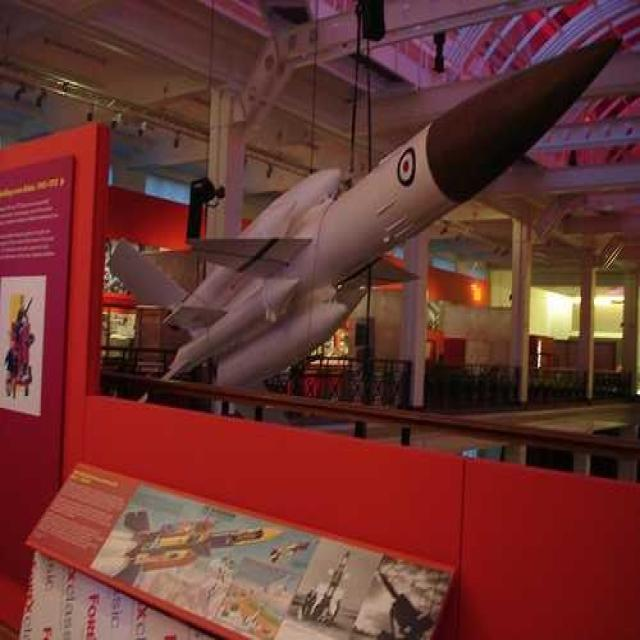missile: (148, 22, 626, 408)
